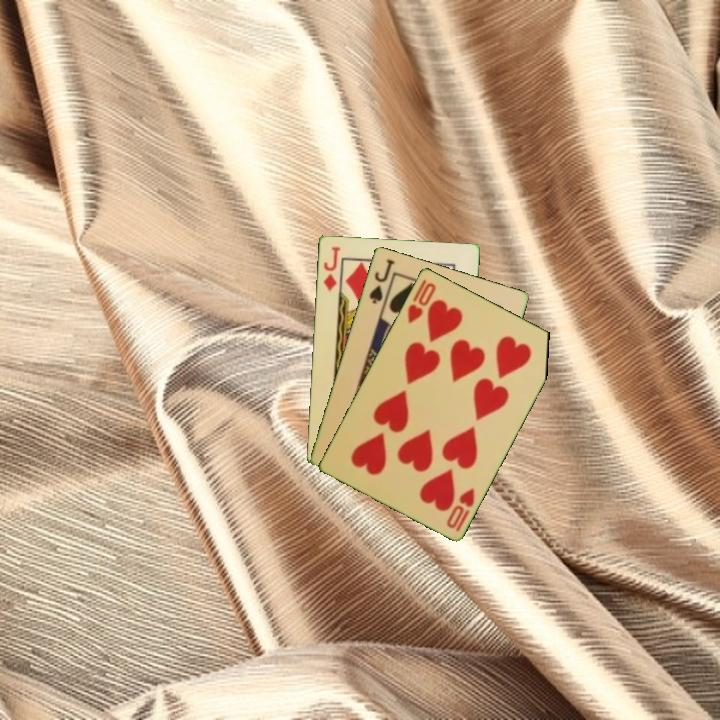10h: (404, 275, 439, 326), (443, 483, 477, 534)
Jd: (320, 243, 342, 294)
Js: (365, 255, 397, 306)
